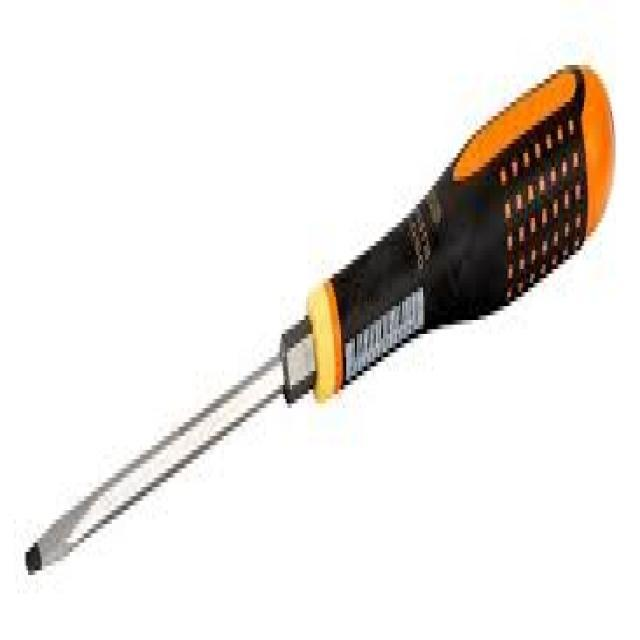screwdriver: (20, 60, 618, 580)
